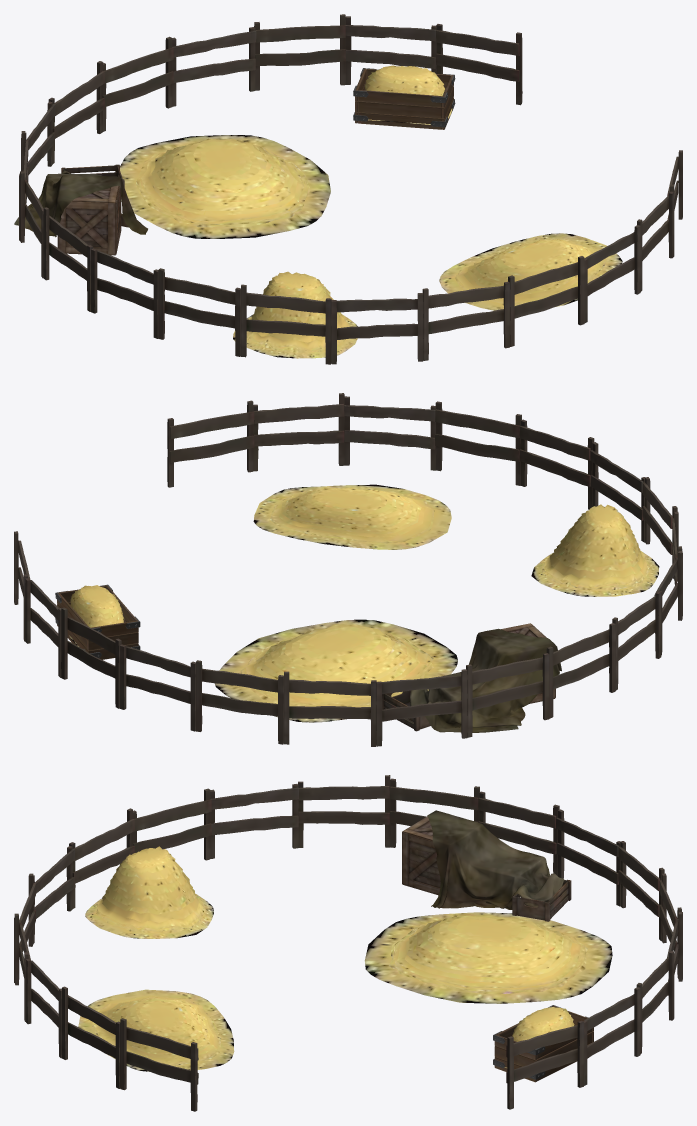
Rendered from SM_PalFarm_d9c3ee.glb.
3 views of the same model, one above another, from view 1: azimuth 30°, elevation 25°; view 2: azimuth 150°, elevation 25°; view 3: azimuth 270°, elevation 25° (orthographic).
Bounding box in the file's own units: 9.55 × 1.24 × 10.15.
Materials: 3 (3 with a texture image).
